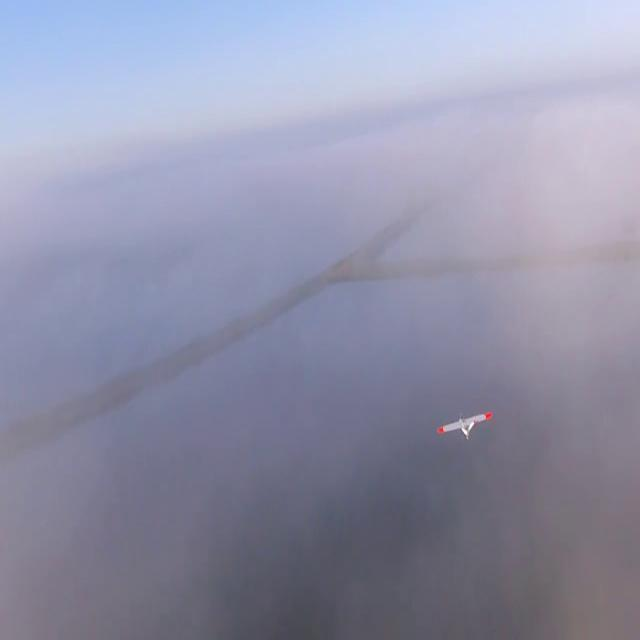iha: (437, 410, 495, 444)
